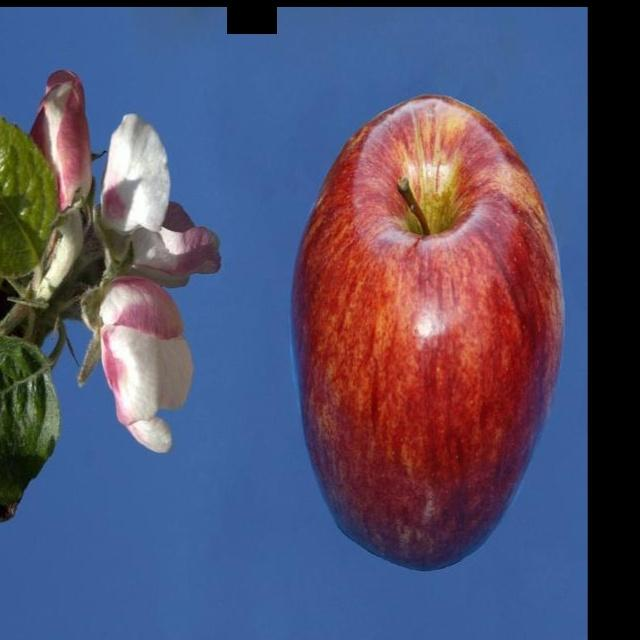red apple: (293, 91, 566, 569)
